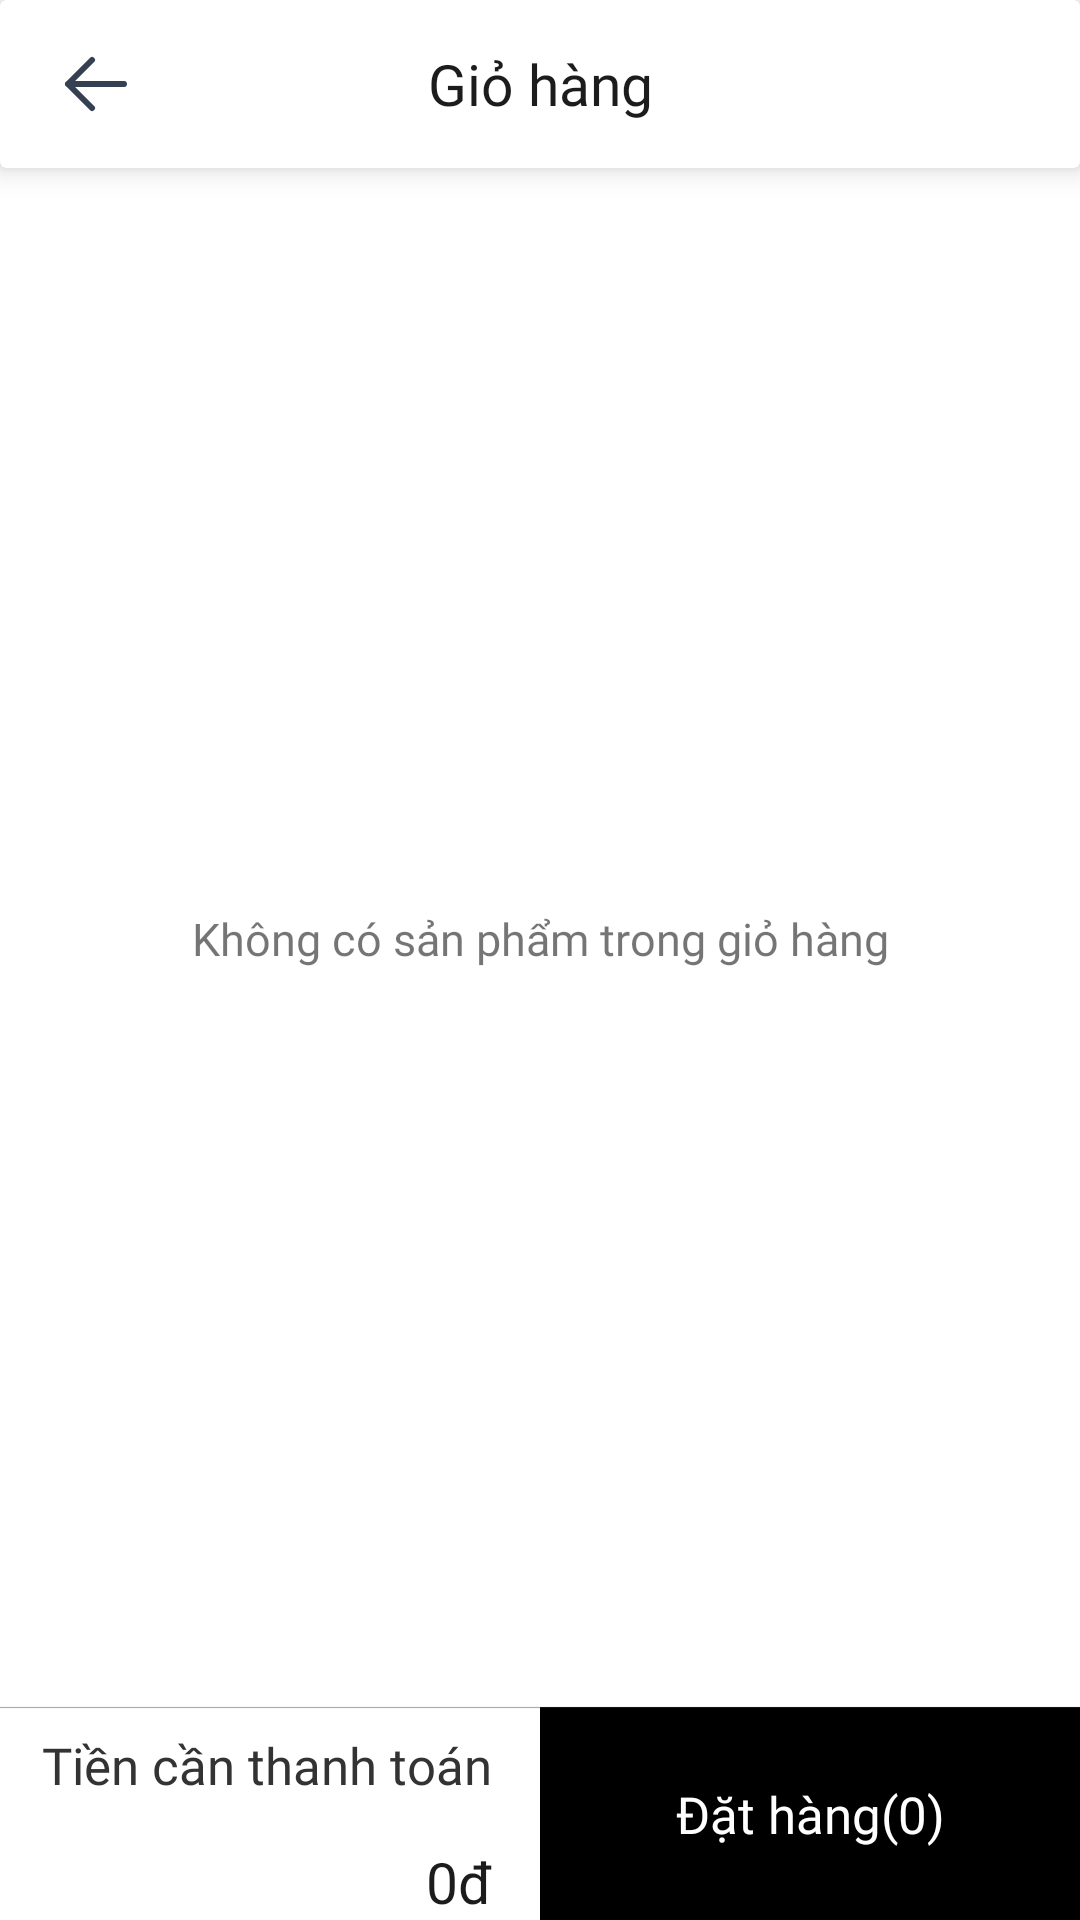

Where to tap for icons on this 1080px x 1920px app screen, as (x,y):
arrow left: (96,84)
